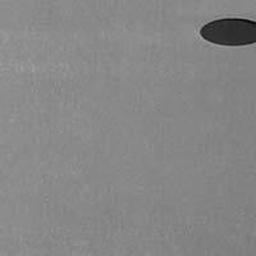Punching: (200, 18, 256, 49)
